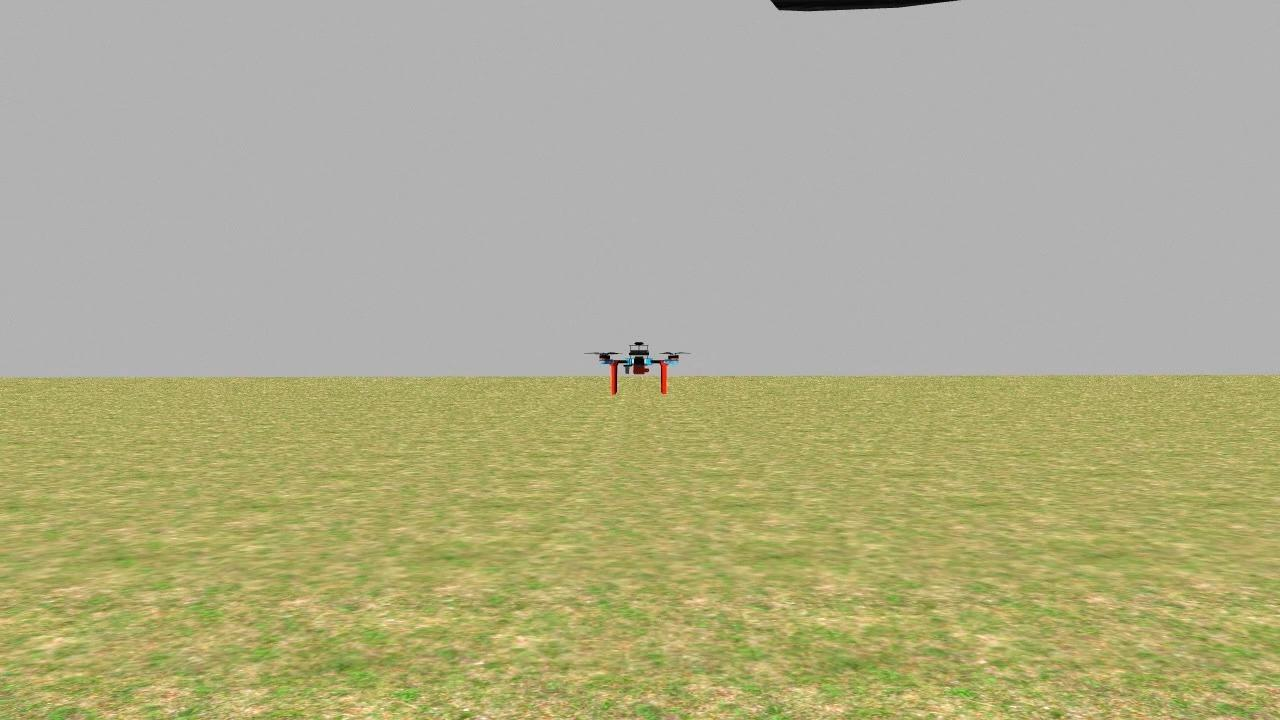UAV: (586, 337, 686, 403)
